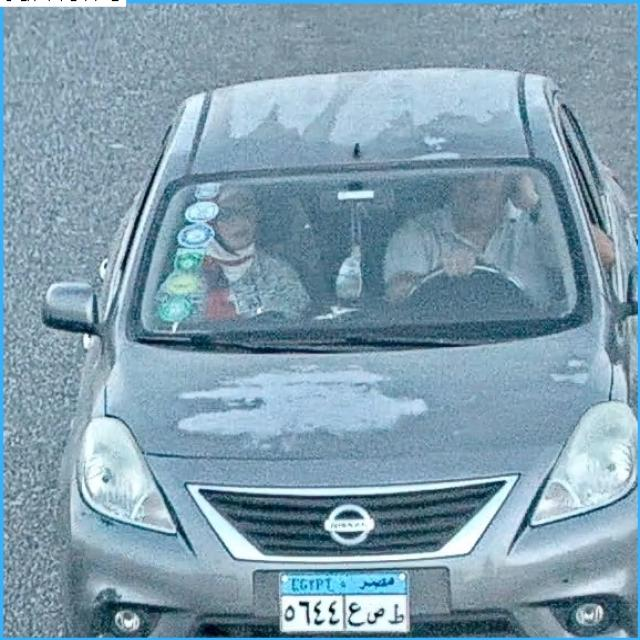windshield: (134, 161, 589, 340)
